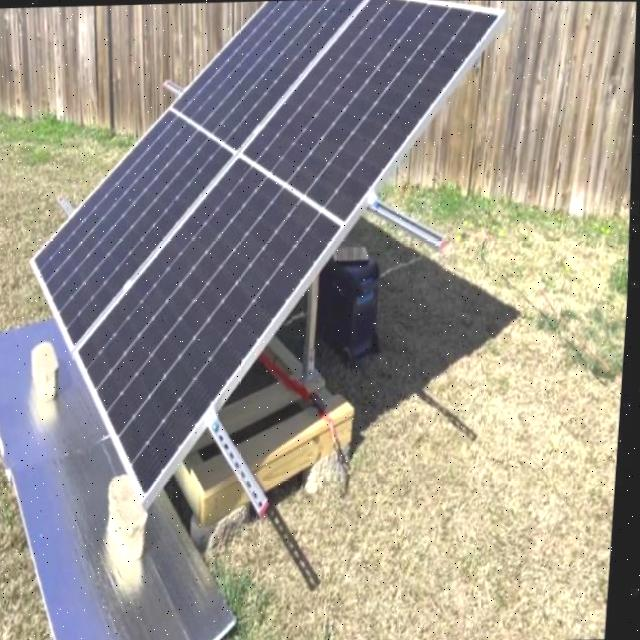Normal Solar Panel: (13, 0, 522, 503)
